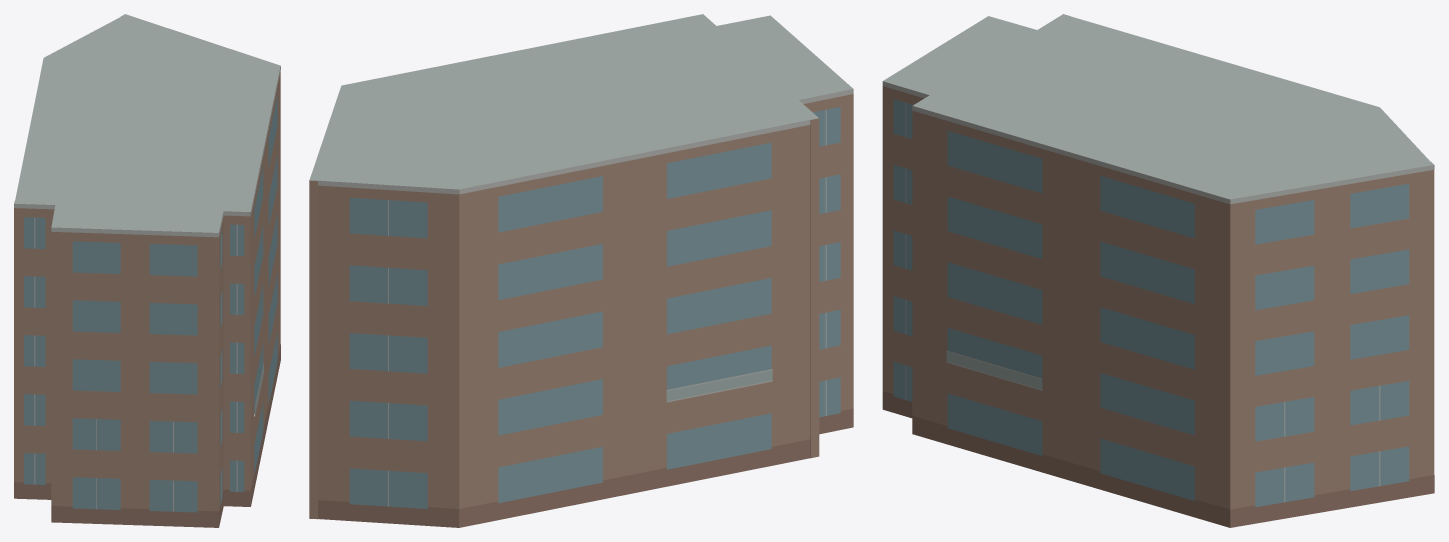
File: survey-upis-32860581.glb
3 views of the same model, side by side, from view 1: azimuth 30°, elevation 25°; view 2: azimuth 150°, elevation 25°; view 3: azimuth 270°, elevation 25° (orthographic). The views are drawn at different scales.
Parts seen in each view (by area): view 1: survey-upis-32860581.tmp; view 2: survey-upis-32860581.tmp; view 3: survey-upis-32860581.tmp.
Part boxes in pixels (x1,y1,x2,y2): survey-upis-32860581.tmp: (14, 14, 280, 527); survey-upis-32860581.tmp: (309, 14, 853, 527); survey-upis-32860581.tmp: (882, 14, 1434, 527).
Bounding box in the file's own units: 20.25 × 16.7 × 25.45.
